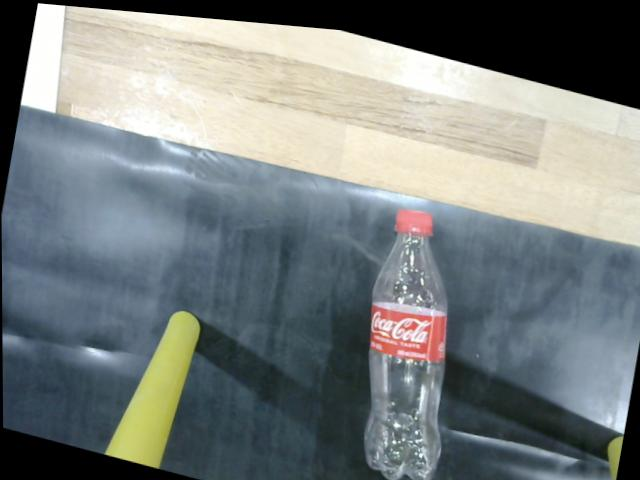bottle: (355, 200, 461, 480)
